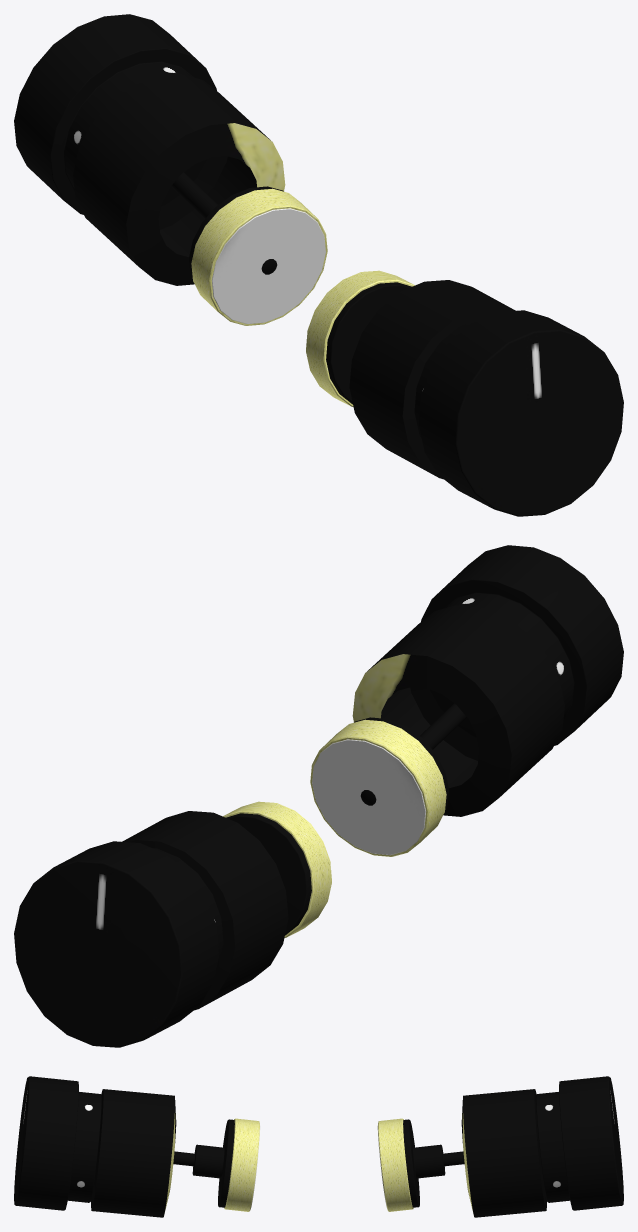
The model's file is CP3BlotterMesh.obj.
3 renders of one model, top to bottom at view 1: azimuth 30°, elevation 25°; view 2: azimuth 150°, elevation 25°; view 3: azimuth 270°, elevation 25°, orthographic. The views are drawn at different scales.
Parts seen in each view (by area): view 1: polySurface73; view 2: polySurface73; view 3: polySurface73.
Boxes of the visible parts, x1=… form: polySurface73: x1=14, y1=14, x2=623, y2=516; polySurface73: x1=14, y1=545, x2=623, y2=1047; polySurface73: x1=14, y1=1076, x2=623, y2=1217.
Bounding box in the file's own units: 4.25 × 4.68 × 19.75.
1 material, 1 textured.
